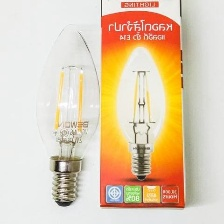carton: (96, 0, 191, 213)
light_bulb: (32, 19, 104, 213)
